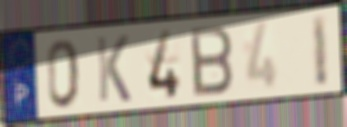0: (46, 38, 81, 110)
4: (243, 18, 282, 94), (146, 28, 182, 101)
B: (188, 23, 236, 99)
I: (310, 12, 330, 90)
K: (94, 33, 133, 104)
